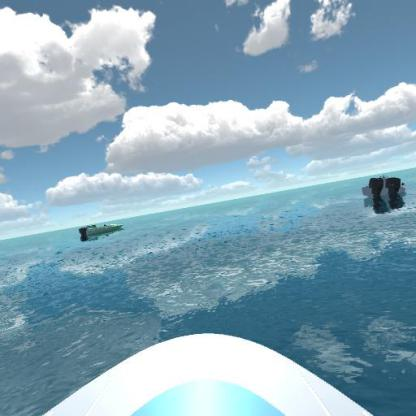usv0: (78, 220, 127, 244)
usv1: (360, 171, 411, 209)
